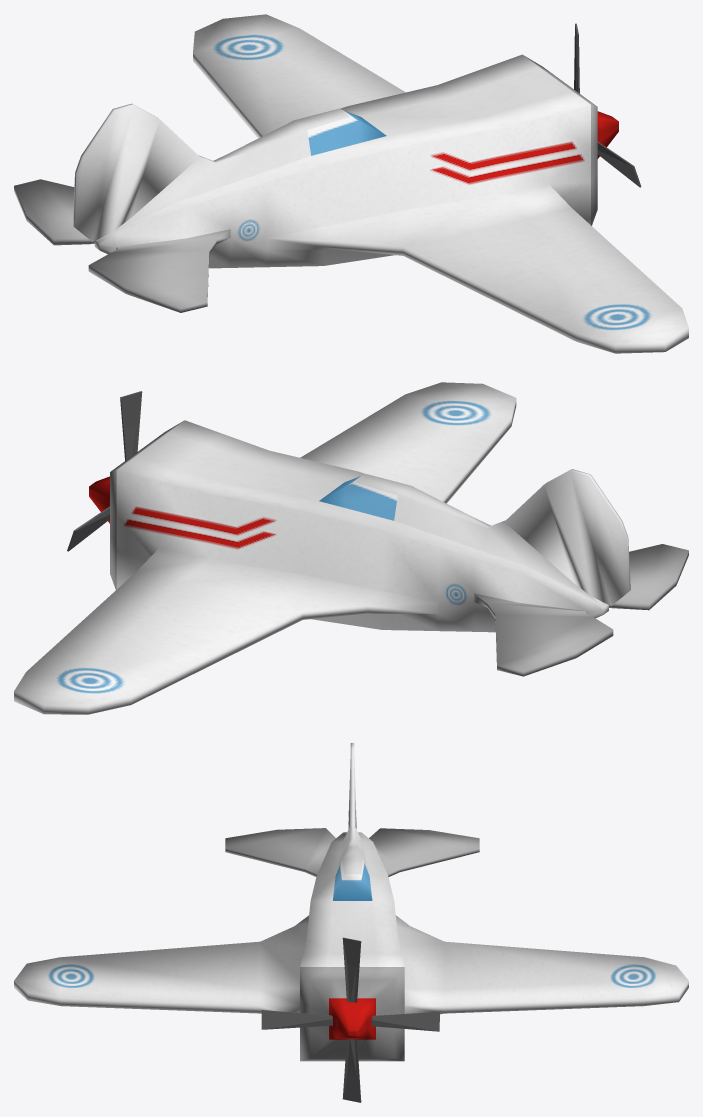
Rendered from Avion.fbx.
3 views of the same model, one above another, from view 1: azimuth 30°, elevation 25°; view 2: azimuth 150°, elevation 25°; view 3: azimuth 270°, elevation 25° (orthographic). The views are drawn at different scales.
Parts seen in each view (by area): view 1: Avion; view 2: Avion; view 3: Avion.
Boxes of the visible parts, bbox=[...] form: Avion: bbox=[14, 14, 688, 353]; Avion: bbox=[14, 382, 688, 714]; Avion: bbox=[14, 743, 688, 1102].
Bounding box in the file's own units: 1.69 × 0.726 × 2.39.
